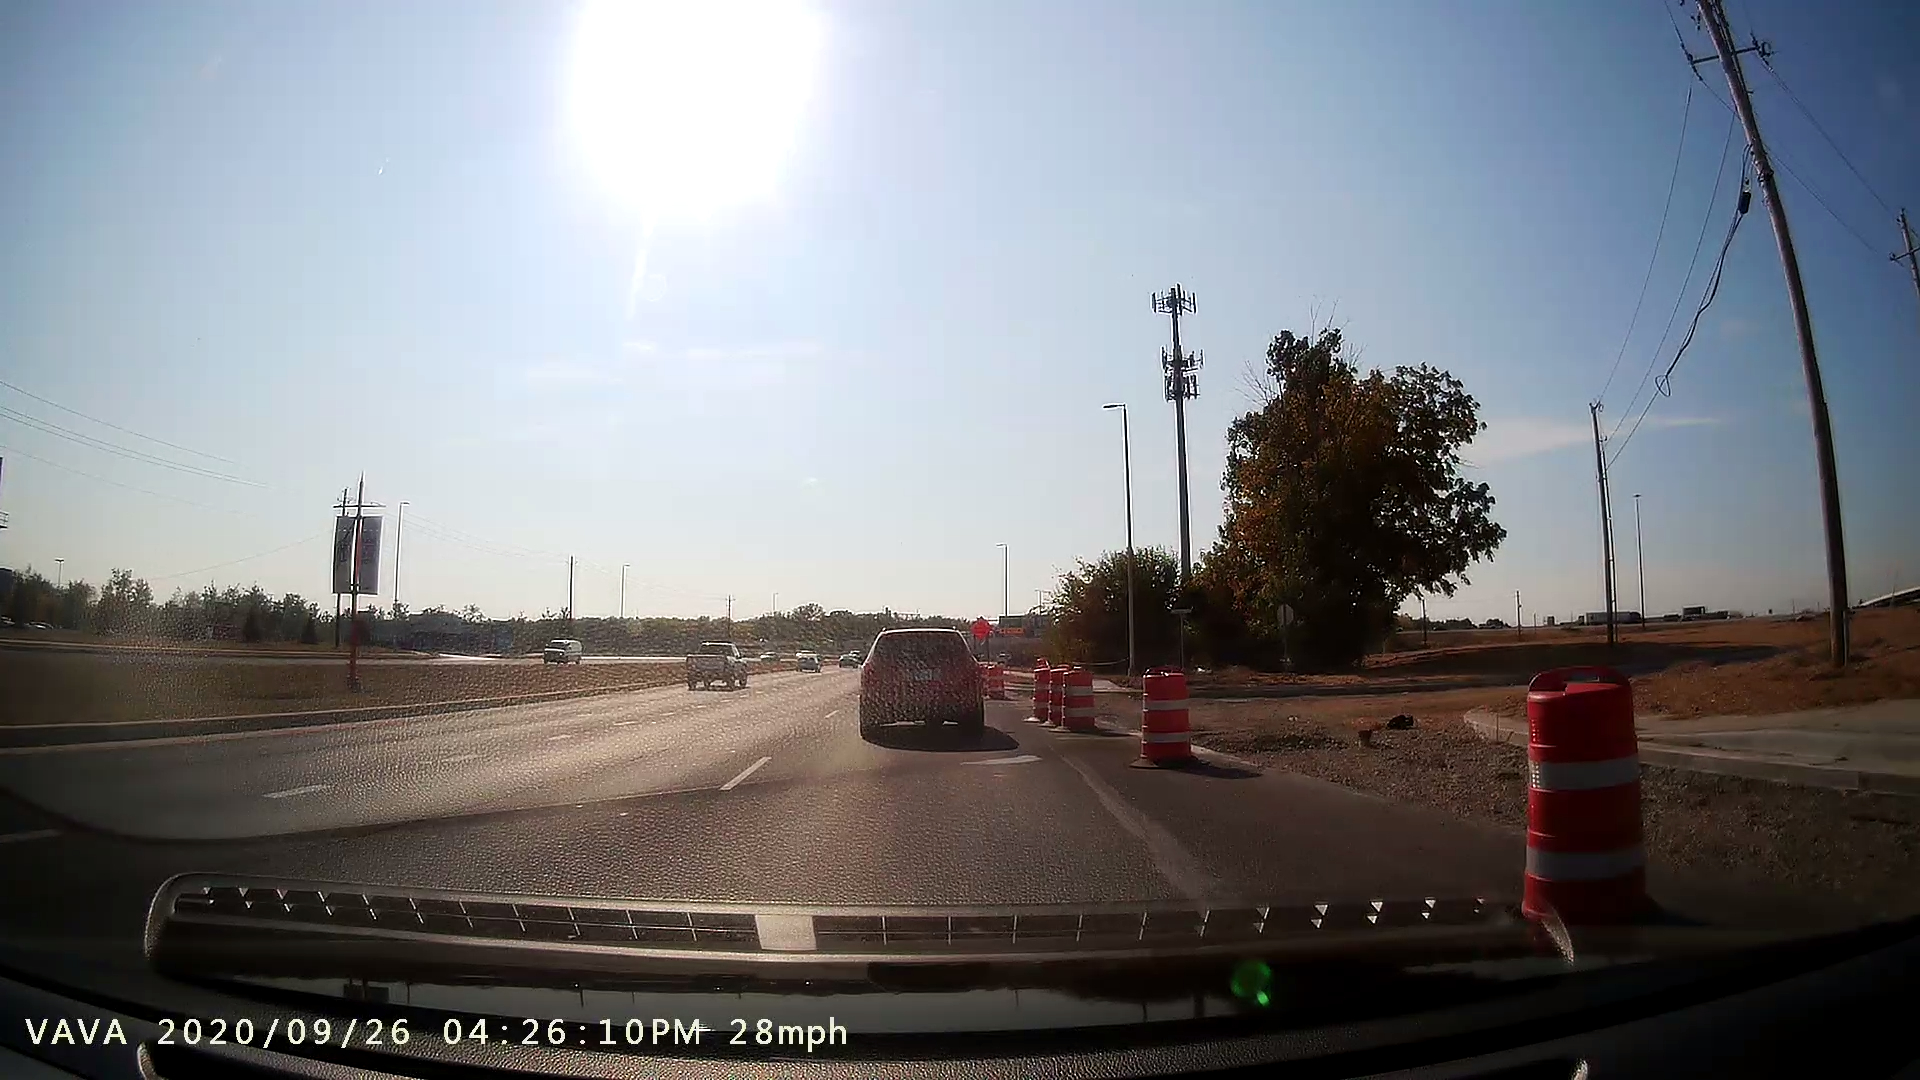const_barrel: (1127, 651, 1205, 777), (1044, 659, 1110, 742)
